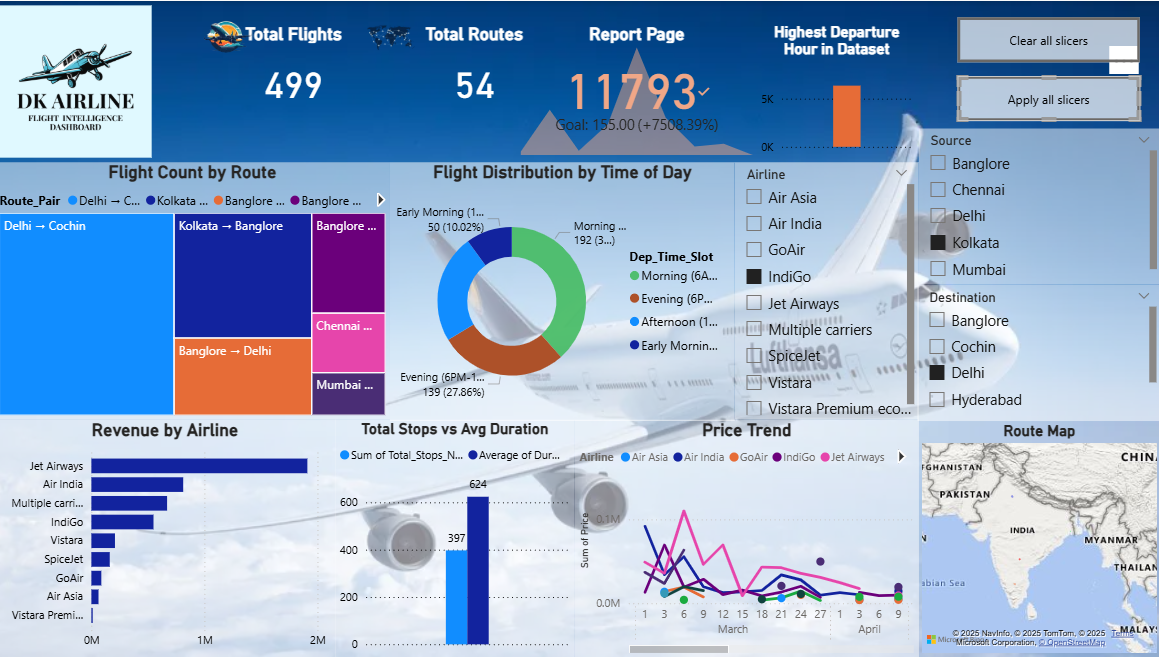

The dashboard page shown, as its layout file describes it:
{"tool":"powerbi","page":{"name":"Page 1","canvas":[1280,720],"ordinal":0},"visuals":[{"type":"barChart","title":"Revenue by Airline","fields":{"Category":["DK Airlines.Airline"],"Y":["Sum(DK Airlines.Price)"]},"box":[0,459.7,373.2,260.7],"z":0},{"type":"lineChart","title":"Price Trend ","fields":{"Y":["Sum(DK Airlines.Price)"],"Series":["DK Airlines.Airline"],"Category":["DK Airlines.Date_of_Journey.Variation.Date Hierarchy.Month","DK Airlines.Date_of_Journey.Variation.Date Hierarchy.Day"]},"box":[636.7,459.7,377.4,260.7],"z":1000},{"type":"card","title":"Total Flights","fields":{"Values":["CountNonNull(DK Airlines.Airline)"]},"box":[222.3,24.7,211.3,107],"z":2000},{"type":"kpi","title":"Report Page","fields":{"TrendLine":["DK Airlines.Airline"],"Indicator":["Sum(DK Airlines.Price)"],"Goal":["Avg(DK Airlines.Duration_Minutes)"]},"box":[572.2,24.7,264.8,149.6],"z":3000},{"type":"treemap","title":"Flight Count by Route","fields":{"Group":["DK Airlines.Route_Pair"],"Values":["CountNonNull(DK Airlines.Route_Pair)"]},"box":[0,177,433.6,282.7],"z":4000},{"type":"clusteredColumnChart","title":"Total Stops vs Avg Duration","fields":{"Y":["Sum(DK Airlines.Total_Stops_Num)","Avg(DK Airlines.Duration_Minutes)"]},"box":[373.2,459.7,263.5,260.7],"z":5000},{"type":"filledMap","title":" Route Map","fields":{"Category":["DK Airlines.Destination","DK Airlines.Source"]},"box":[1012.7,461.1,267.6,259.3],"z":6000},{"type":"slicer","fields":{"Values":["DK Airlines.Airline"]},"box":[812.4,177,201.7,282.7],"z":7000},{"type":"slicer","fields":{"Values":["DK Airlines.Source"]},"box":[1014.1,140,266.2,171.5],"z":8000},{"type":"slicer","fields":{"Values":["DK Airlines.Destination"]},"box":[1012.7,311.5,267.6,149.6],"z":9000},{"type":"actionButton","box":[1056.6,87.8,200.3,49.4],"z":10000},{"type":"actionButton","box":[1056.6,17.8,200.3,49.4],"z":11000},{"type":"image","box":[216.8,11,74.1,56.3],"z":12000},{"type":"card","title":"Total Routes","fields":{"Values":["Count(DK Airlines.Route)"]},"box":[413,24.7,226.4,107],"z":13000},{"type":"image","box":[396.6,17.8,75.5,43.9],"z":14000},{"type":"image","box":[0,0,177,177],"z":15000},{"type":"donutChart","title":"Flight Distribution by Time of Day","fields":{"Category":["DK Airlines.Dep_Time_Slot"],"Y":["CountNonNull(DK Airlines.Dep_Time_Slot)"]},"box":[433.6,177,378.7,284],"z":16000},{"type":"clusteredColumnChart","title":"Highest Departure Hour in Dataset","fields":{"Y":["Sum(DK Airlines.Dep_Hour)"]},"box":[835.7,23.3,177,150.9],"z":17000}]}

Visuals, with their boxes in screenshot pixels (x1, y1, x2, y2), scaled from the page's 1280x720 canvas onto the 1159x657 screenshot:
"Revenue by Airline" barChart: 0 419 338 656
"Price Trend " lineChart: 577 419 918 656
"Total Flights" card: 201 23 393 120
"Report Page" kpi: 518 23 758 159
"Flight Count by Route" treemap: 0 162 393 419
"Total Stops vs Avg Duration" clusteredColumnChart: 338 419 577 656
" Route Map" filledMap: 917 421 1158 656
slicer - DK Airlines.Airline: 736 162 918 419
slicer - DK Airlines.Source: 918 128 1158 284
slicer - DK Airlines.Destination: 917 284 1158 421
actionButton: 957 80 1138 125
actionButton: 957 16 1138 61
image: 196 10 263 61
"Total Routes" card: 374 23 579 120
image: 359 16 427 56
image: 0 0 160 162
"Flight Distribution by Time of Day" donutChart: 393 162 736 421
"Highest Departure Hour in Dataset" clusteredColumnChart: 757 21 917 159
